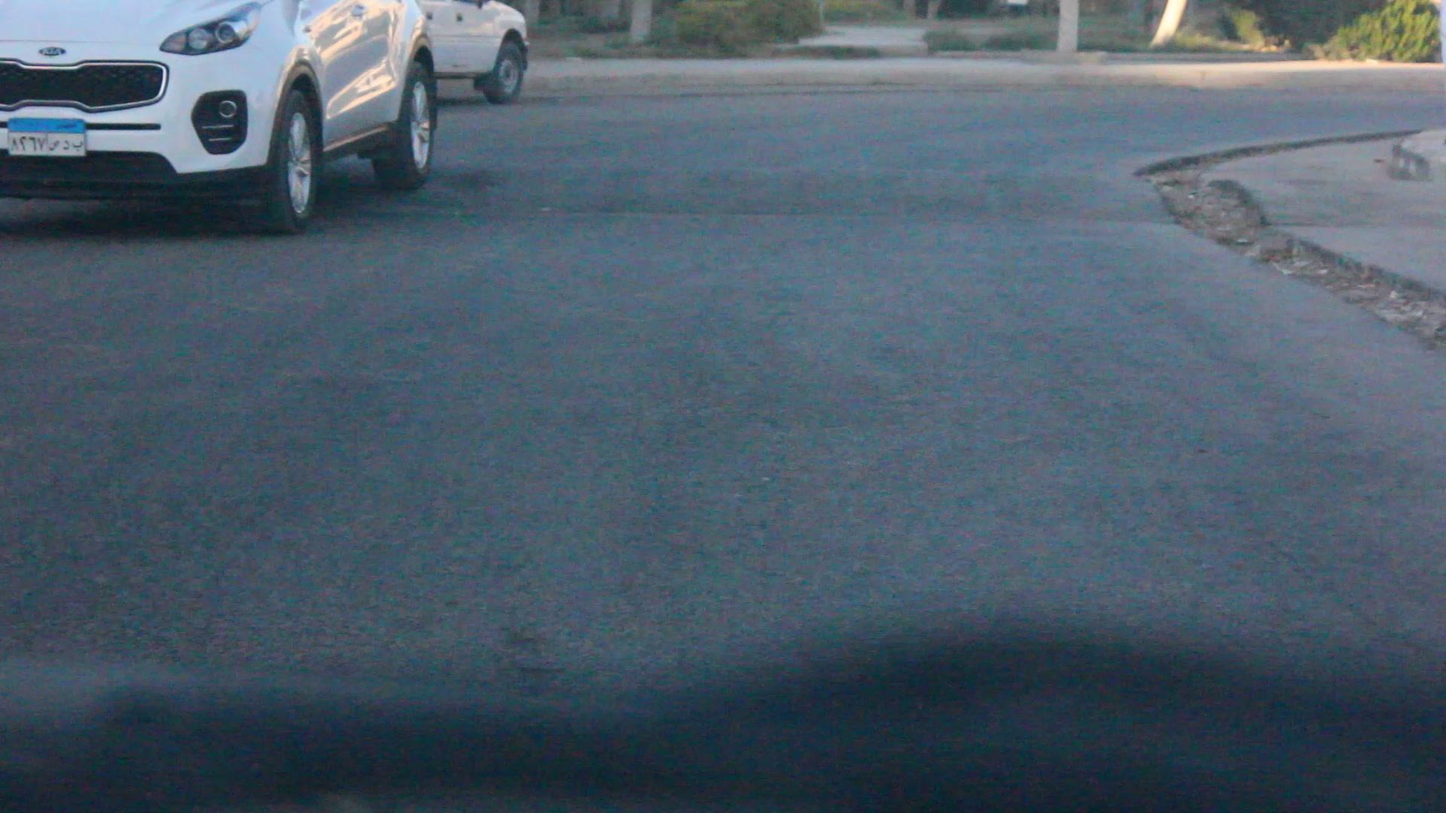Bump: (441, 156, 1160, 224)
